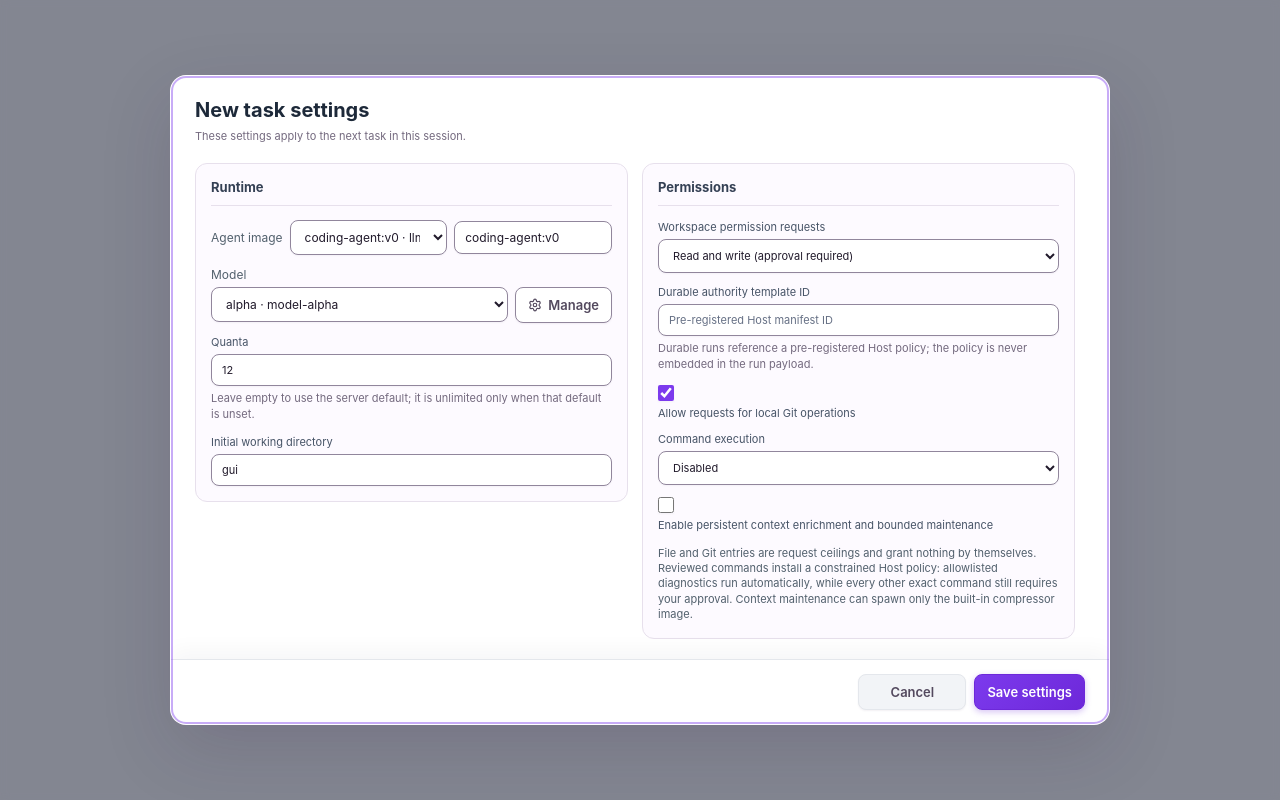
it: UserTaskSettingsDialog › requires a referenced Host authority template for request policies
Clear the 2nd field: [858, 320] box [658,304,1059,336]
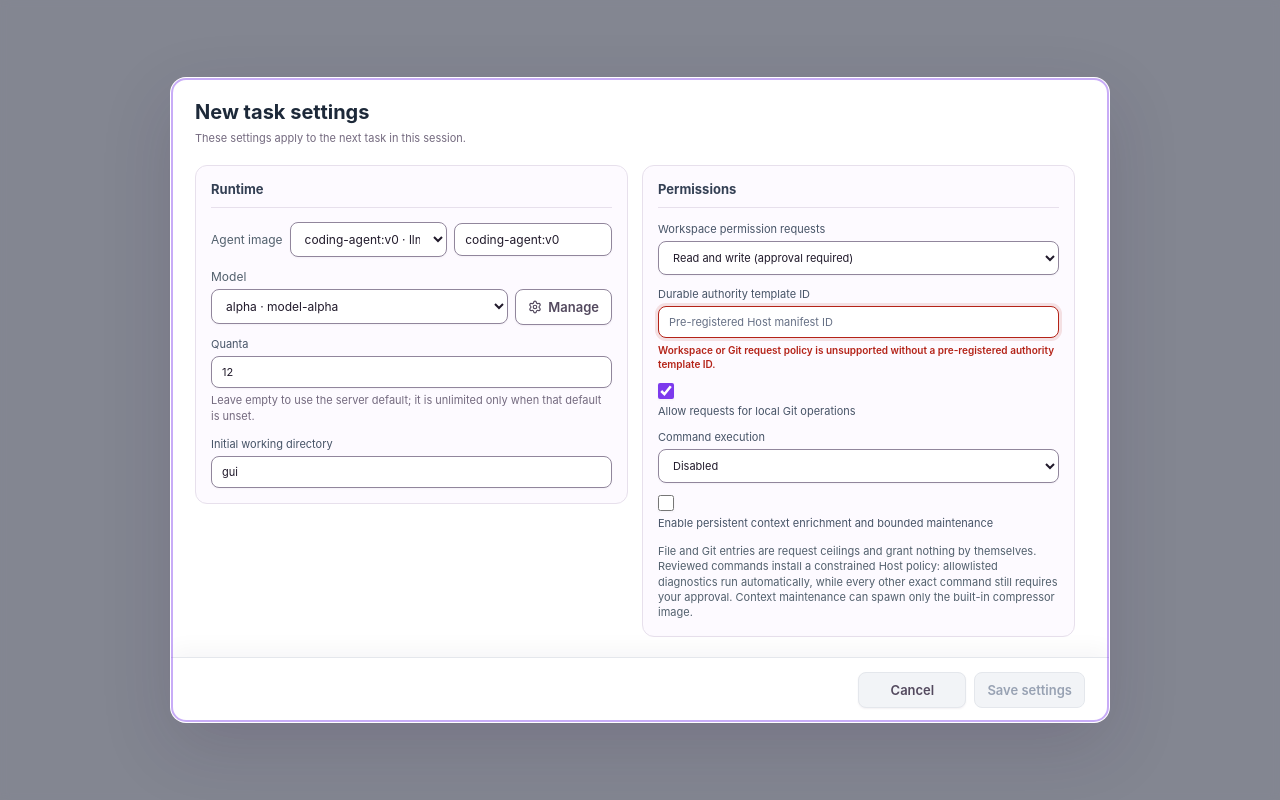
Now the text "unsupported without a pre-registered authority template ID" is shown, box [658,344,1054,370]
Now the button "Save settings" is disabled, box [974,672,1085,708]
